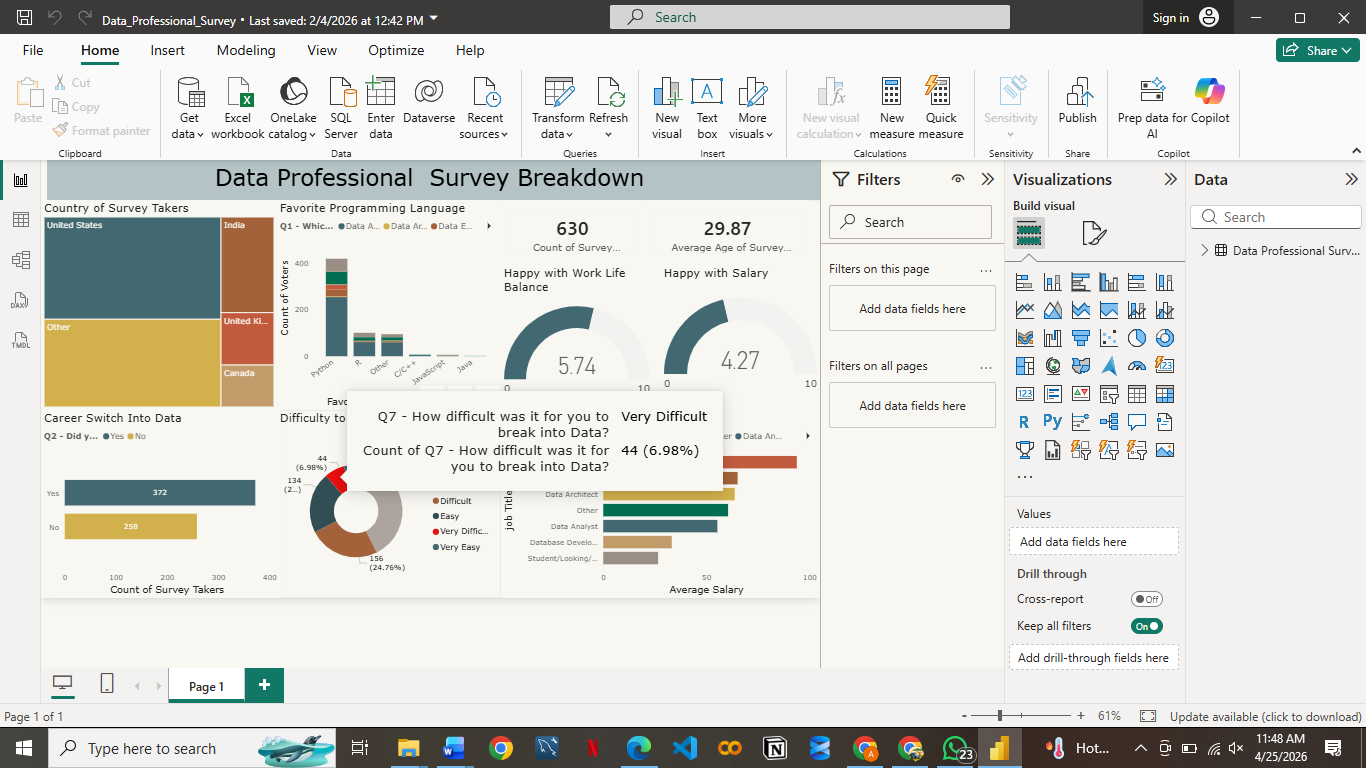

Layout of this report page (visuals, bound fields, positions):
{"tool":"powerbi","page":{"name":"Page 1","canvas":[1280,720],"ordinal":0},"visuals":[{"type":"textbox","box":[10.1,0,1269.9,65.5],"z":0},{"type":"cardVisual","fields":{"Data":["Count(Data Professional Survey.Unique ID)"]},"box":[755.8,65.7,233.3,106.8],"z":1000},{"type":"cardVisual","fields":{"Data":["Avg(Data Professional Survey.Q10 - Current Age)"]},"box":[989.2,65.7,276,106.8],"z":2000},{"type":"barChart","title":"Average Salary by Job Title","fields":{"Category":["Data Professional Survey.Q1 - Which Title Best Fits your Current Role?.1"],"Y":["Avg(Data Professional Survey.Average Salary)"],"Series":["Data Professional Survey.Q1 - Which Title Best Fits your Current Role?.1"]},"box":[755.8,410.8,524.2,308.9],"z":3000},{"type":"columnChart","title":"Favorite Programming Language","fields":{"Category":["Data Professional Survey.Q5 - Favorite Programming Language.1"],"Y":["Count(Data Professional Survey.Unique ID)"],"Series":["Data Professional Survey.Q1 - Which Title Best Fits your Current Role?.1"]},"box":[387.8,65.7,368.1,345.1],"z":4000},{"type":"gauge","title":"Happy with Work Life Balance","fields":{"Y":["Avg(Data Professional Survey.Q6 - How Happy are you in your Current Position with the following? (Work/Life Balance))"],"MinValue":["Min(Data Professional Survey.Q6 - How Happy are you in your Current Position with the following? (Work/Life Balance))1"],"MaxValue":["Max(Data Professional Survey.Q6 - How Happy are you in your Current Position with the following? (Work/Life Balance))2"]},"box":[755.8,172.5,249.8,238.3],"z":5000},{"type":"gauge","title":"Happy with Salary","fields":{"Y":["Avg(Data Professional Survey.Q6 - How Happy are you in your Current Position with the following? (Salary))"],"MinValue":["Min(Data Professional Survey.Q6 - How Happy are you in your Current Position with the following? (Salary))"],"MaxValue":["Max(Data Professional Survey.Q6 - How Happy are you in your Current Position with the following? (Salary))"]},"box":[1018.7,172.5,261.3,238.3],"z":6000},{"type":"donutChart","title":"Difficulty to Break into Data","fields":{"Category":["Data Professional Survey.Q7 - How difficult was it for you to break into Data?"],"Y":["CountNonNull(Data Professional Survey.Q7 - How difficult was it for you to break into Data?)"]},"box":[387.8,410.8,368.1,308.9],"z":7000},{"type":"barChart","title":"Career Switch Into Data","fields":{"Category":["Data Professional Survey.Q2 - Did you switch careers into Data?"],"Y":["Count(Data Professional Survey.Unique ID)"],"Series":["Data Professional Survey.Q2 - Did you switch careers into Data?"]},"box":[0,410.8,392.7,308.9],"z":8000},{"type":"treemap","title":"Country of Survey Takers","fields":{"Group":["Data Professional Survey.Q11 - Which Country do you live in?.1"],"Values":["CountNonNull(Data Professional Survey.Q11 - Which Country do you live in?.1)"]},"box":[0,65.7,387.8,345.1],"z":9000}]}

Visuals, with their boxes in screenshot pixels (x1, y1, x2, y2):
textbox: (x1=0, y1=0, x2=1272, y2=33)
cardVisual - Count(Data Professional Survey.Unique ID): (x1=721, y1=34, x2=966, y2=146)
cardVisual - Avg(Data Professional Survey.Q10 - Current Age): (x1=966, y1=34, x2=1257, y2=146)
"Average Salary by Job Title" barChart: (x1=721, y1=397, x2=1272, y2=722)
"Favorite Programming Language" columnChart: (x1=333, y1=34, x2=721, y2=397)
"Happy with Work Life Balance" gauge: (x1=721, y1=146, x2=984, y2=397)
"Happy with Salary" gauge: (x1=997, y1=146, x2=1272, y2=397)
"Difficulty to Break into Data" donutChart: (x1=333, y1=397, x2=721, y2=722)
"Career Switch Into Data" barChart: (x1=0, y1=397, x2=339, y2=722)
"Country of Survey Takers" treemap: (x1=0, y1=34, x2=333, y2=397)
